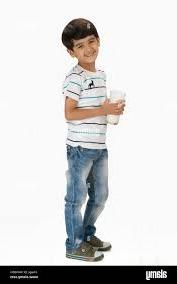Human: (51, 5, 118, 263)
